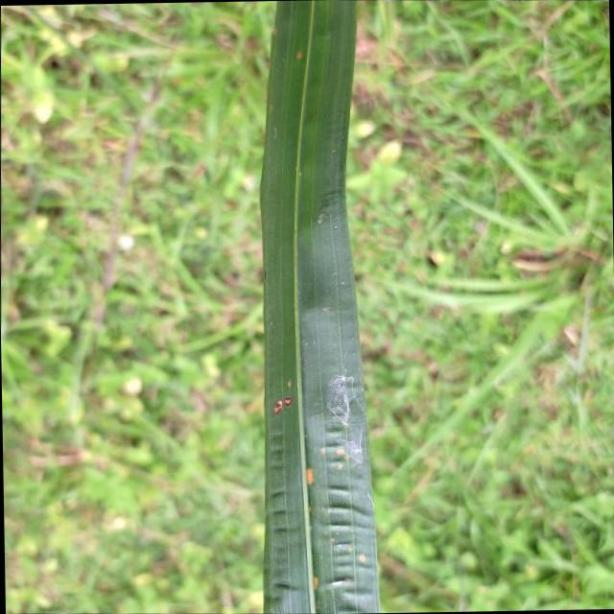Boron: (256, 0, 380, 614)
